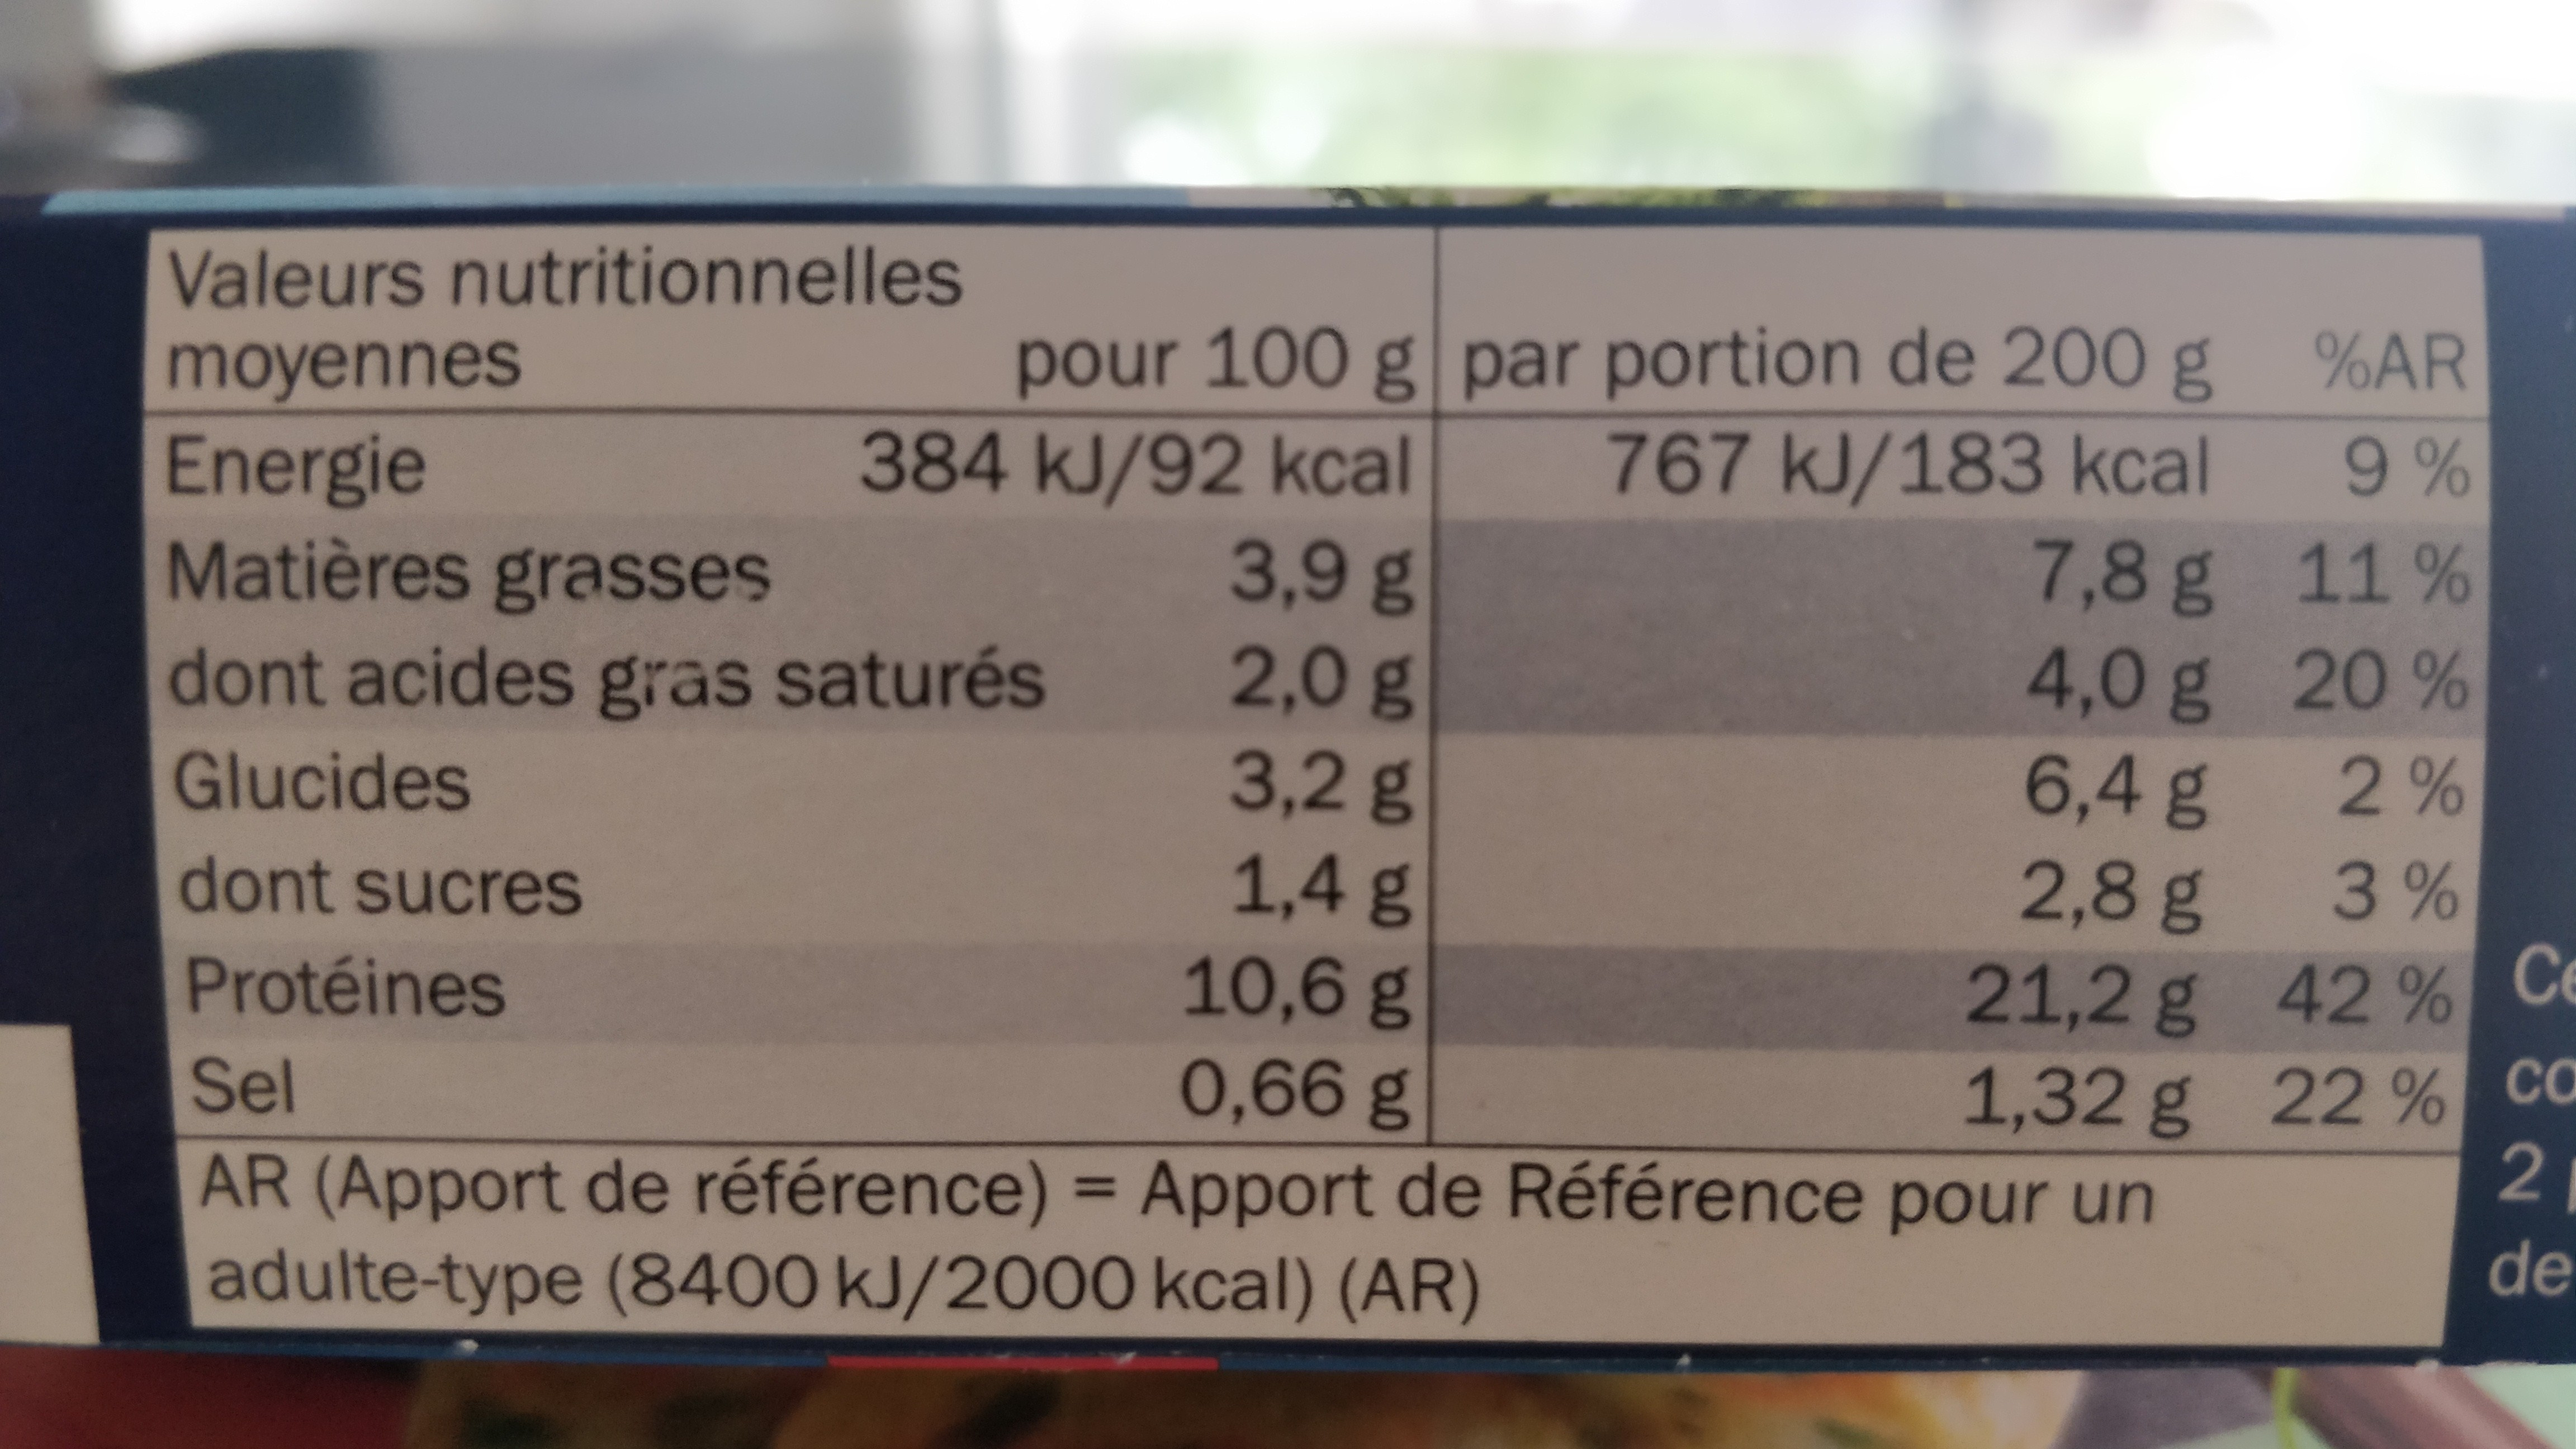column: (161, 228, 1414, 1136), (1463, 232, 2215, 1152), (2268, 234, 2473, 1152)
table: (147, 221, 2489, 1154)
